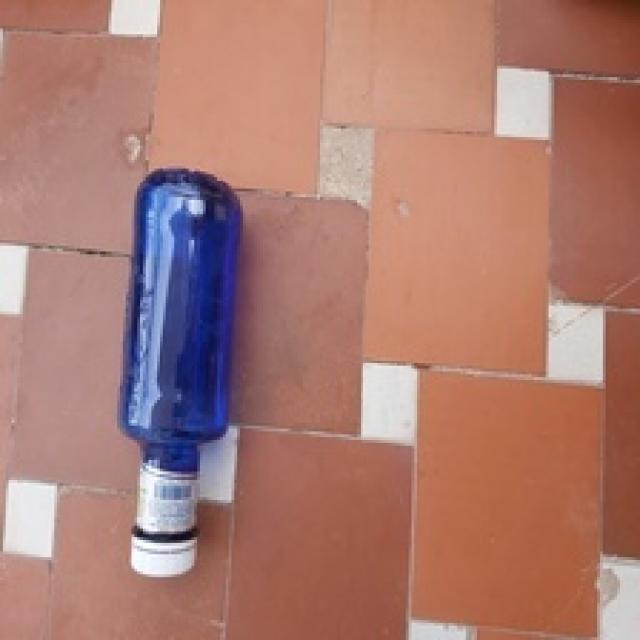Plastic: (118, 162, 239, 579)
